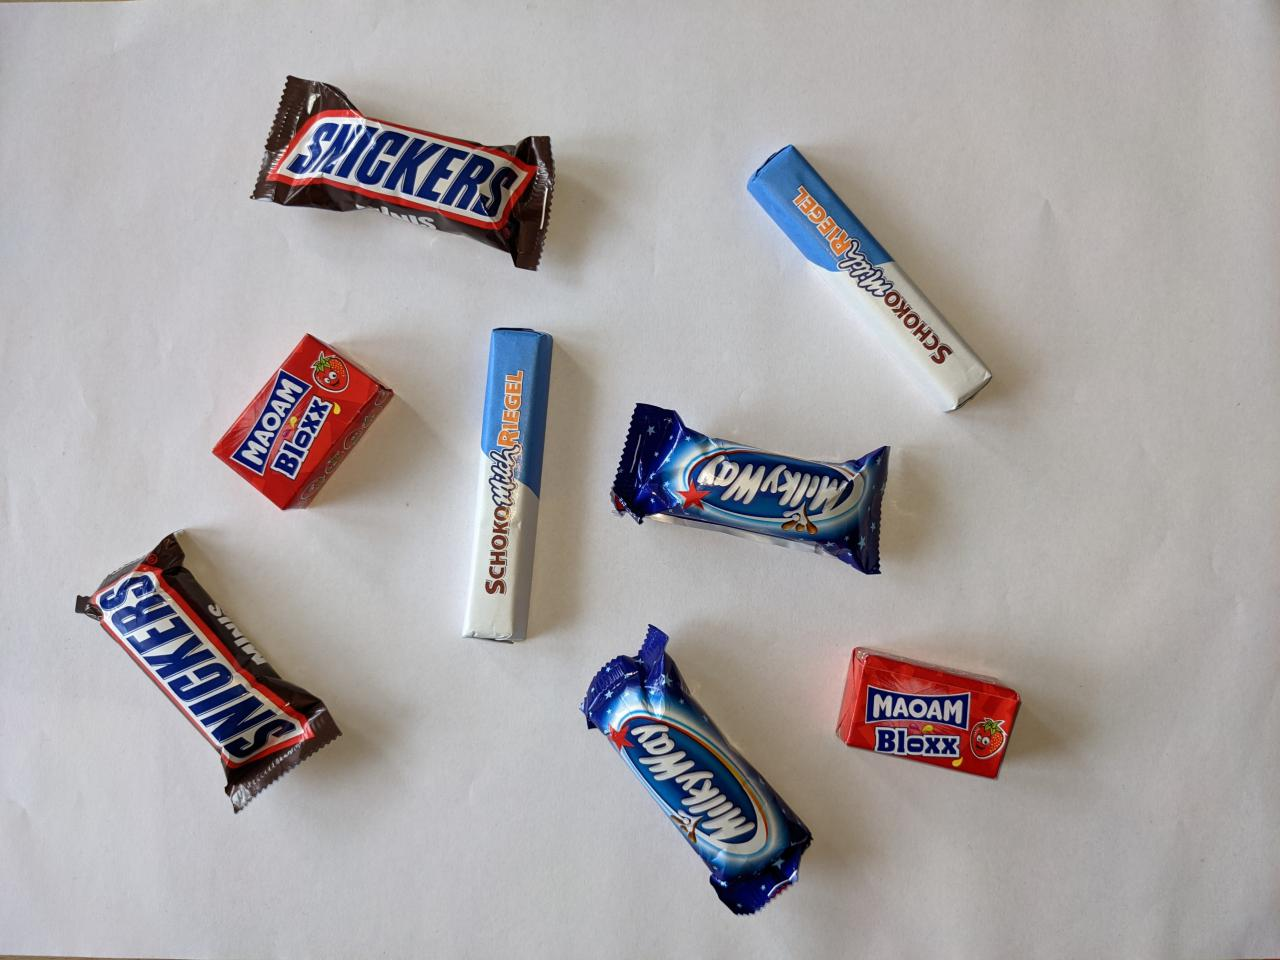MAOAM: (206, 327, 400, 518), (830, 641, 1027, 786)
MilkyWay: (574, 617, 819, 921), (603, 397, 895, 581)
Schokoriegel: (743, 141, 999, 419), (456, 323, 562, 648)
Snickers: (69, 525, 348, 817), (244, 70, 561, 275)
